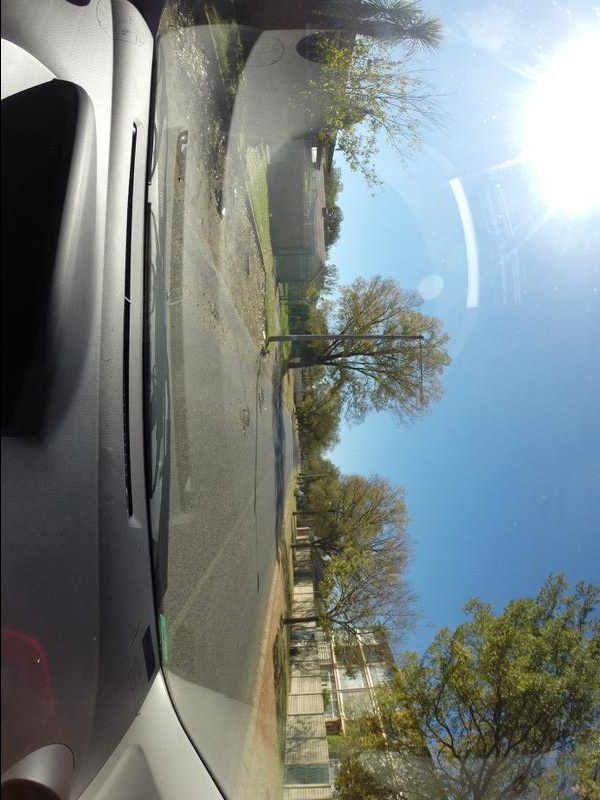pothole: (237, 403, 259, 430), (257, 389, 267, 416)
